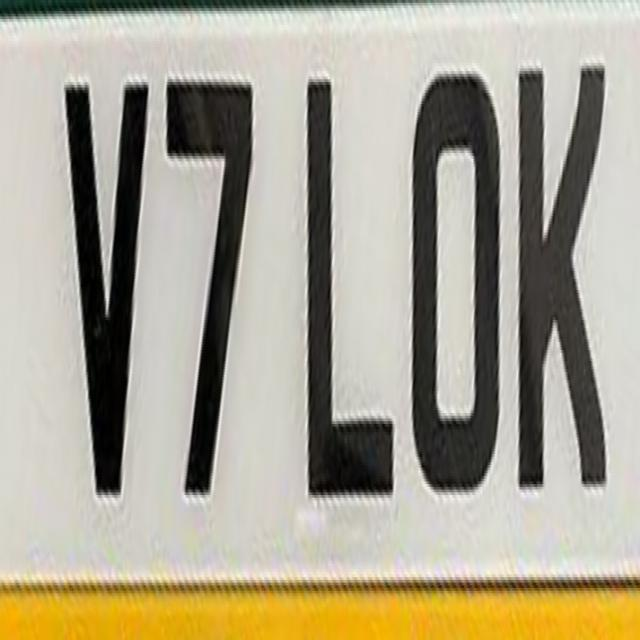7: (160, 47, 262, 532)
K: (516, 21, 614, 528)
L: (298, 49, 404, 521)
O: (408, 53, 508, 511)
V: (56, 55, 156, 527)
